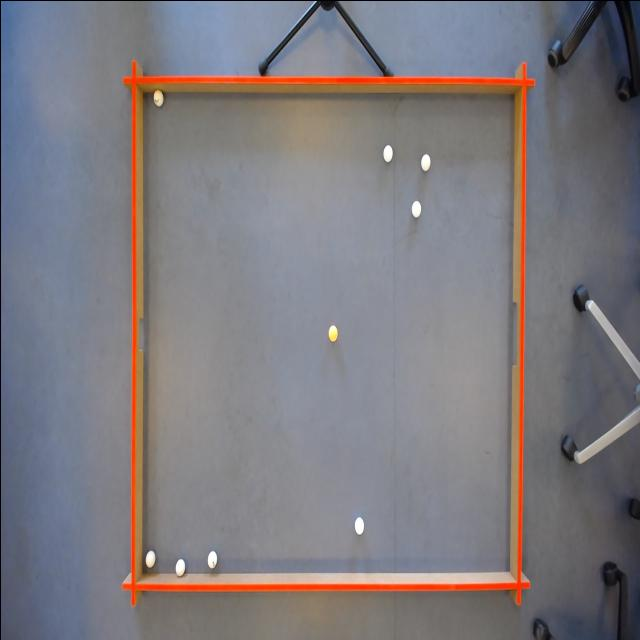orange_ball: (326, 322, 338, 344)
white_ball: (352, 512, 366, 536), (151, 85, 165, 109), (419, 149, 431, 173), (144, 546, 156, 570), (205, 546, 218, 568), (172, 556, 185, 577), (410, 198, 422, 218), (382, 142, 392, 164)
